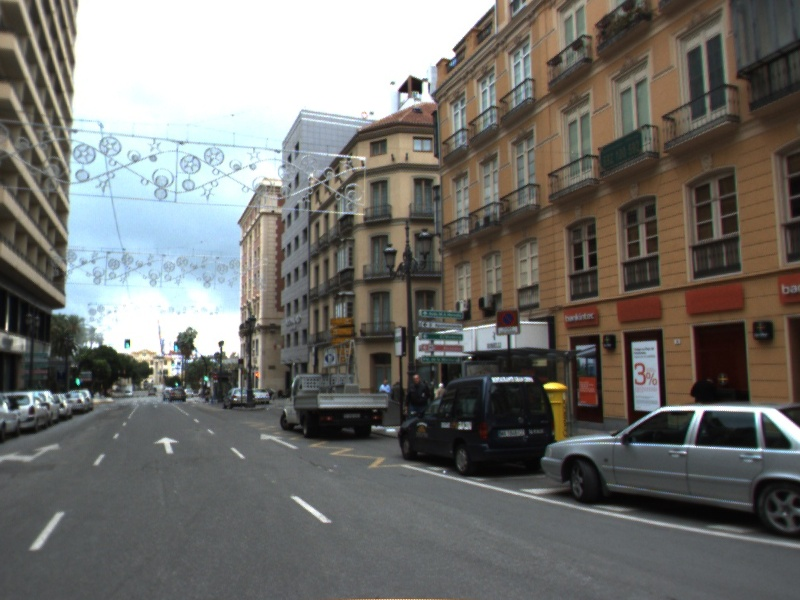STRAIGHT: (257, 431, 301, 451), (151, 435, 182, 456)
STRAIGHT_LEFT: (1, 440, 64, 464)
